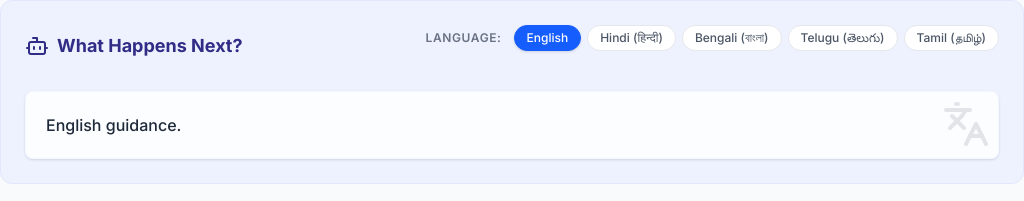
it: PostRegGuidance › requests guidance in the selected language
Expected: the text "English guidance." is shown, [46,115,181,135]
Click the button with aria-label "show guidance in hindi". click: coordinates (632, 38)
box: [587,25,676,51]
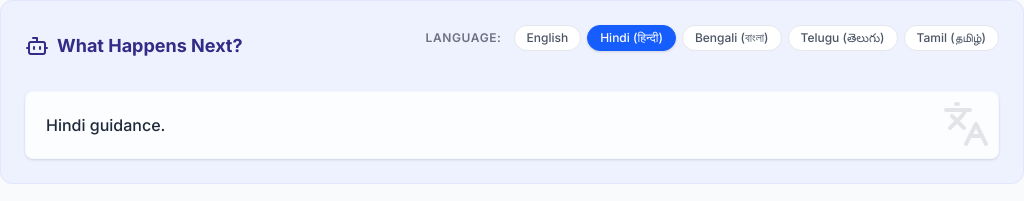
Expected: the text "Hindi guidance." is shown, [46,115,165,135]
